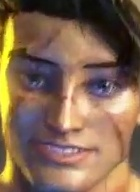kevin: (6, 8, 139, 191)
